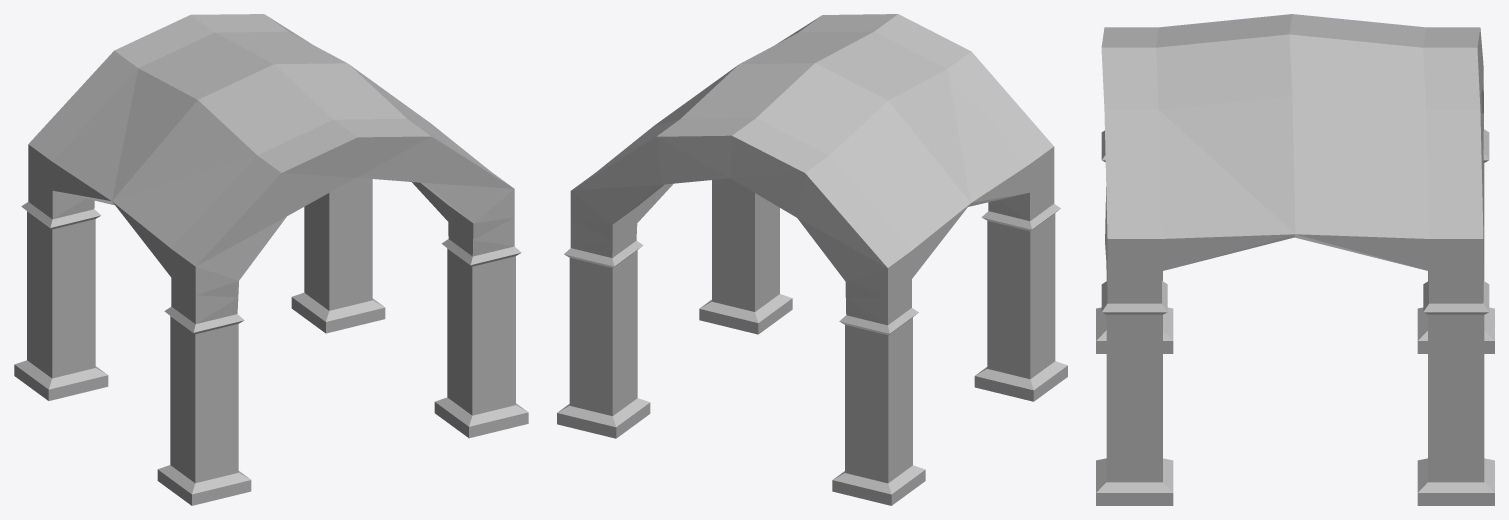
Rendered from nier_obj.obj.
The picture shows the model from 3 angles, left to right: view 1: azimuth 30°, elevation 25°; view 2: azimuth 150°, elevation 25°; view 3: azimuth 270°, elevation 25°; orthographic projection. The views are drawn at different scales.
Parts seen in each view (by area): view 1: Cube; view 2: Cube; view 3: Cube.
Part boxes in pixels (x1=…): Cube: x1=14, y1=14, x2=528, y2=505; Cube: x1=557, y1=14, x2=1067, y2=505; Cube: x1=1096, y1=14, x2=1494, y2=505.
Bounding box in the file's own units: 9.39 × 9 × 8.58.
